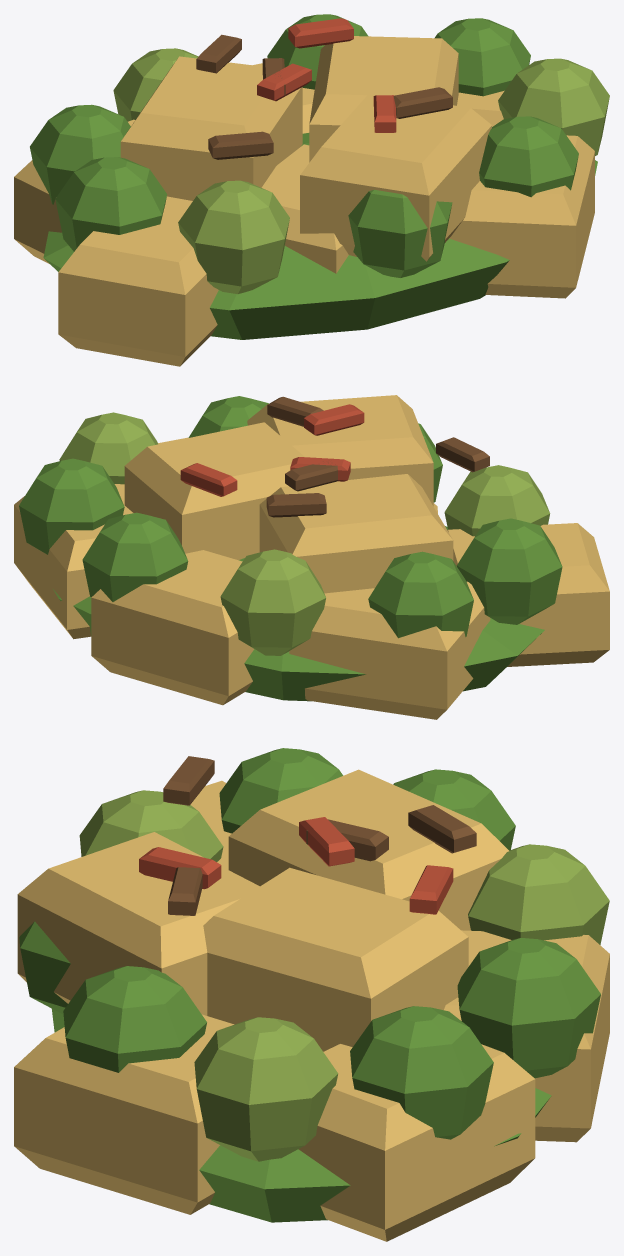
The model's file is mix.obj.
3 views of the same model, one above another, from view 1: azimuth 30°, elevation 25°; view 2: azimuth 150°, elevation 25°; view 3: azimuth 270°, elevation 25° (orthographic). The views are drawn at different scales.
Visible parts, largest first — view 1: mix; view 2: mix; view 3: mix.
Boxes of the visible parts, bbox=[...] form: mix: bbox=[14, 14, 609, 366]; mix: bbox=[14, 395, 609, 719]; mix: bbox=[14, 748, 609, 1241].
Size of the model in its own units: 0.4253 by 0.1479 by 0.3018.
